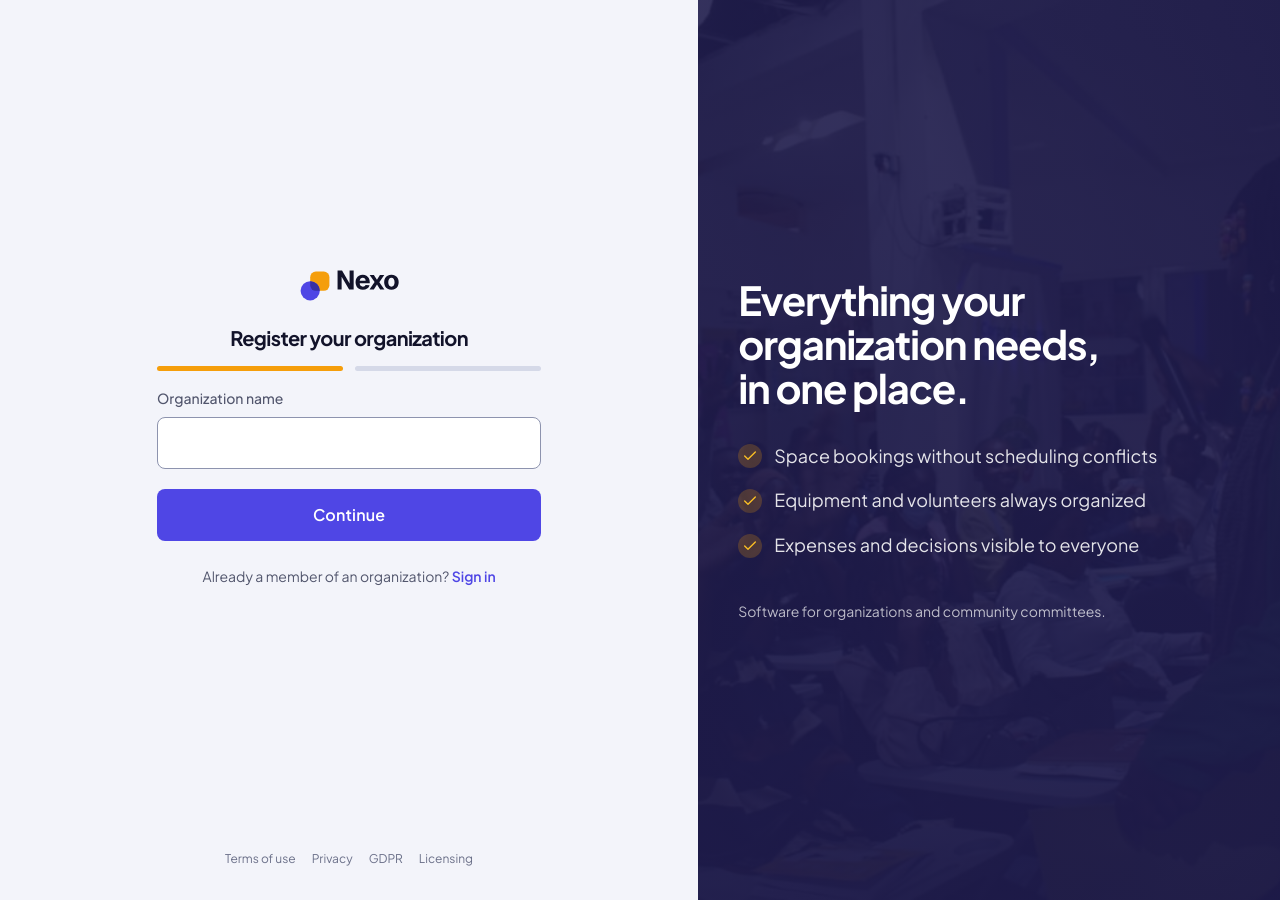
RegisterForm › given valid details across both steps, when submitting, then it registers and sends the admin to sign in
Step 1. Type "Associação Horizonte" into the field labelled "Organization name" → (349, 443), box x1=157 y1=417 x2=541 y2=469
Step 2. Click the button "Continue" → (349, 515), box x1=157 y1=489 x2=541 y2=540
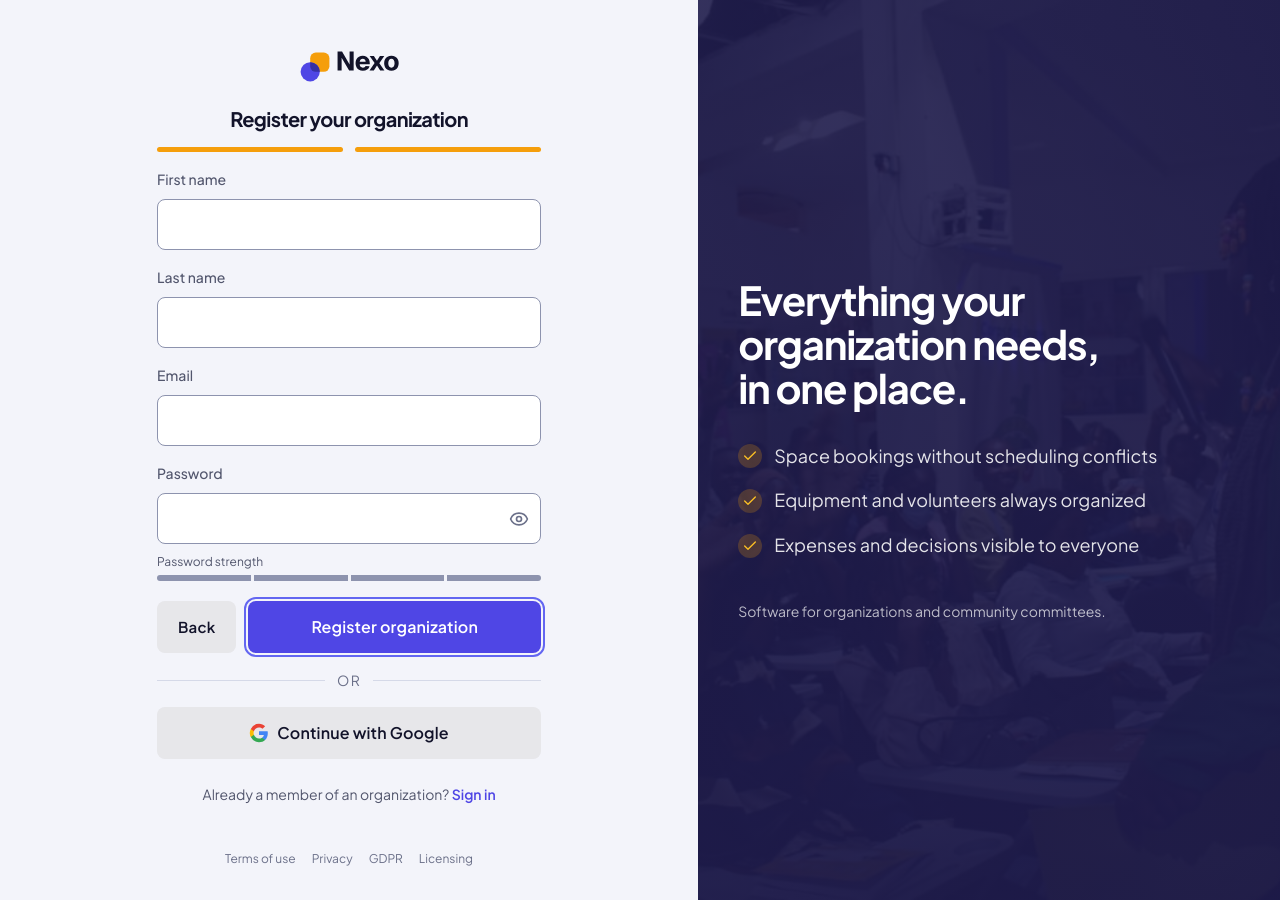
Step 3. Type "Ana" into the field labelled "First name" → (349, 225), box x1=157 y1=199 x2=541 y2=250
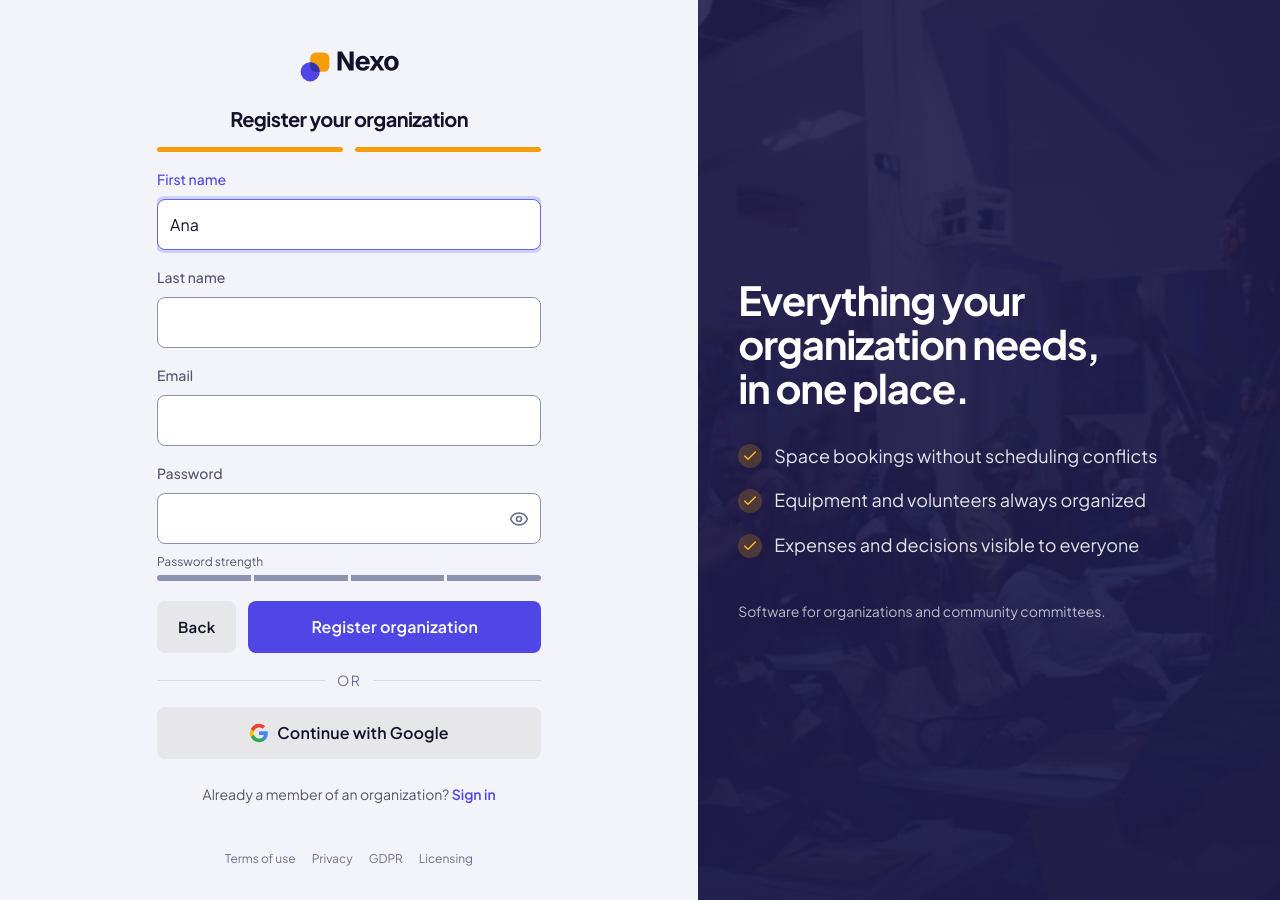
Step 4. Type "Admin" into the field labelled "Last name" → (349, 322), box x1=157 y1=297 x2=541 y2=348
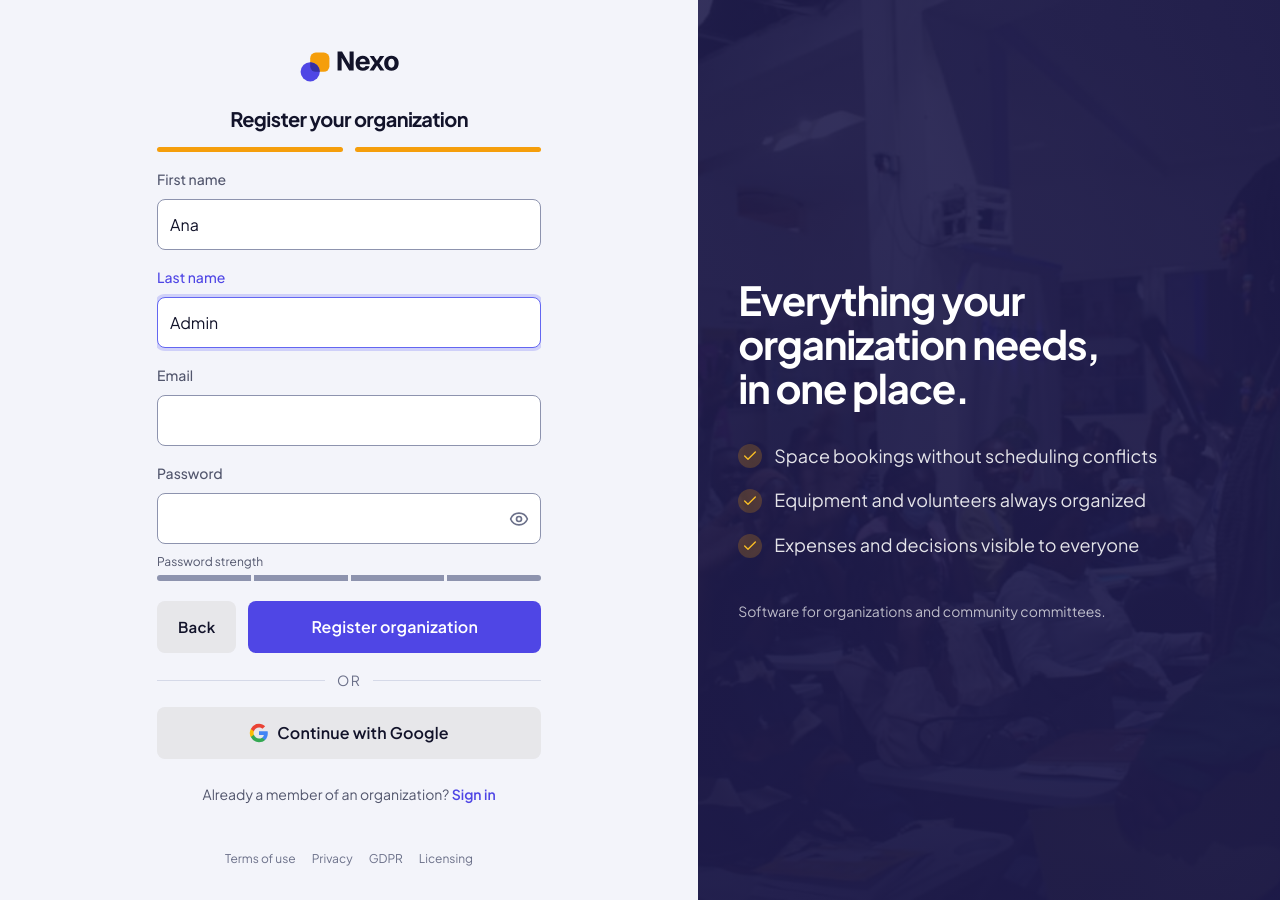
Step 5. Type "ana@example.com" into the field labelled "Email" → (349, 420), box x1=157 y1=395 x2=541 y2=446
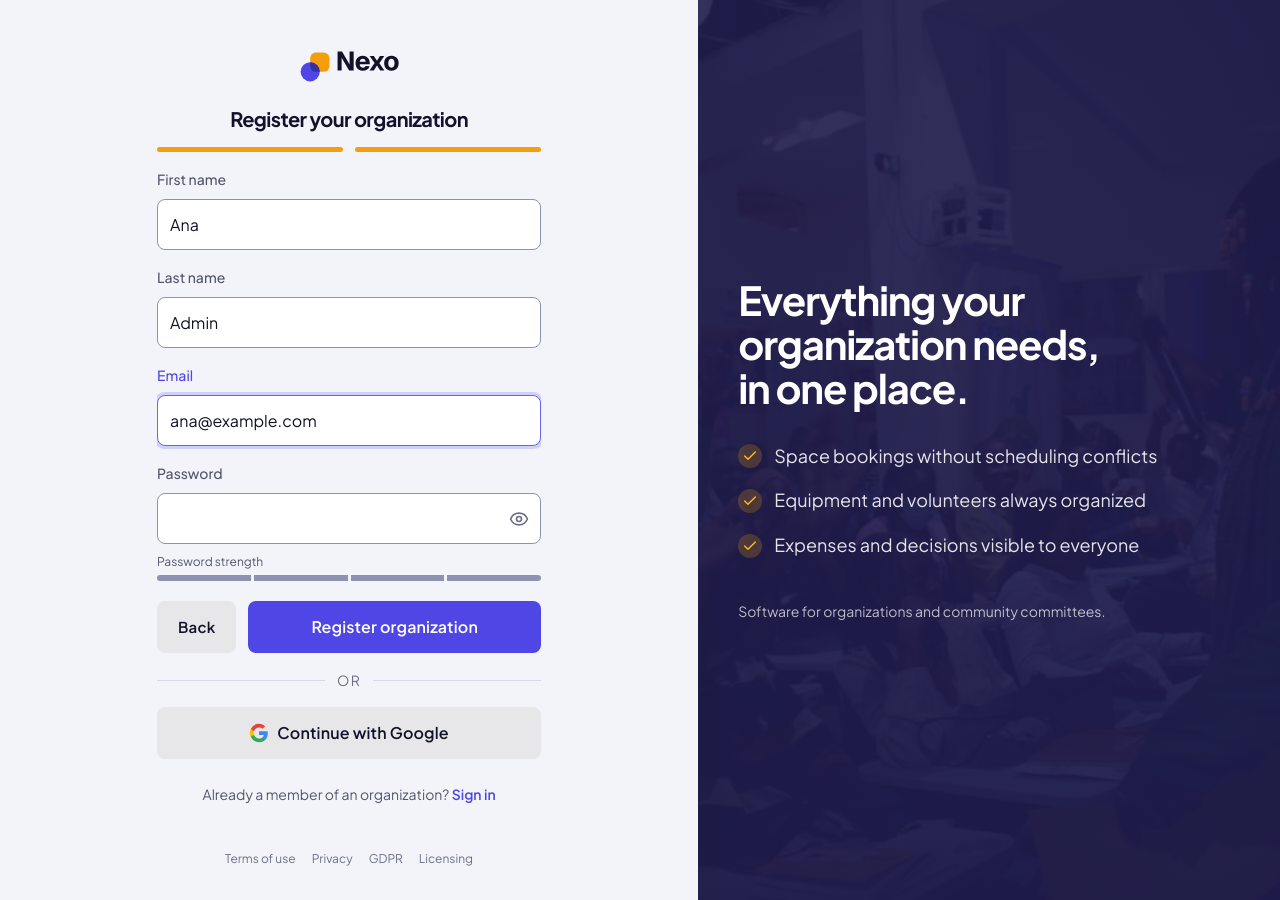
Step 6. Type "Secret-123" into the password field labelled "Password" → (349, 518), box x1=157 y1=493 x2=541 y2=544
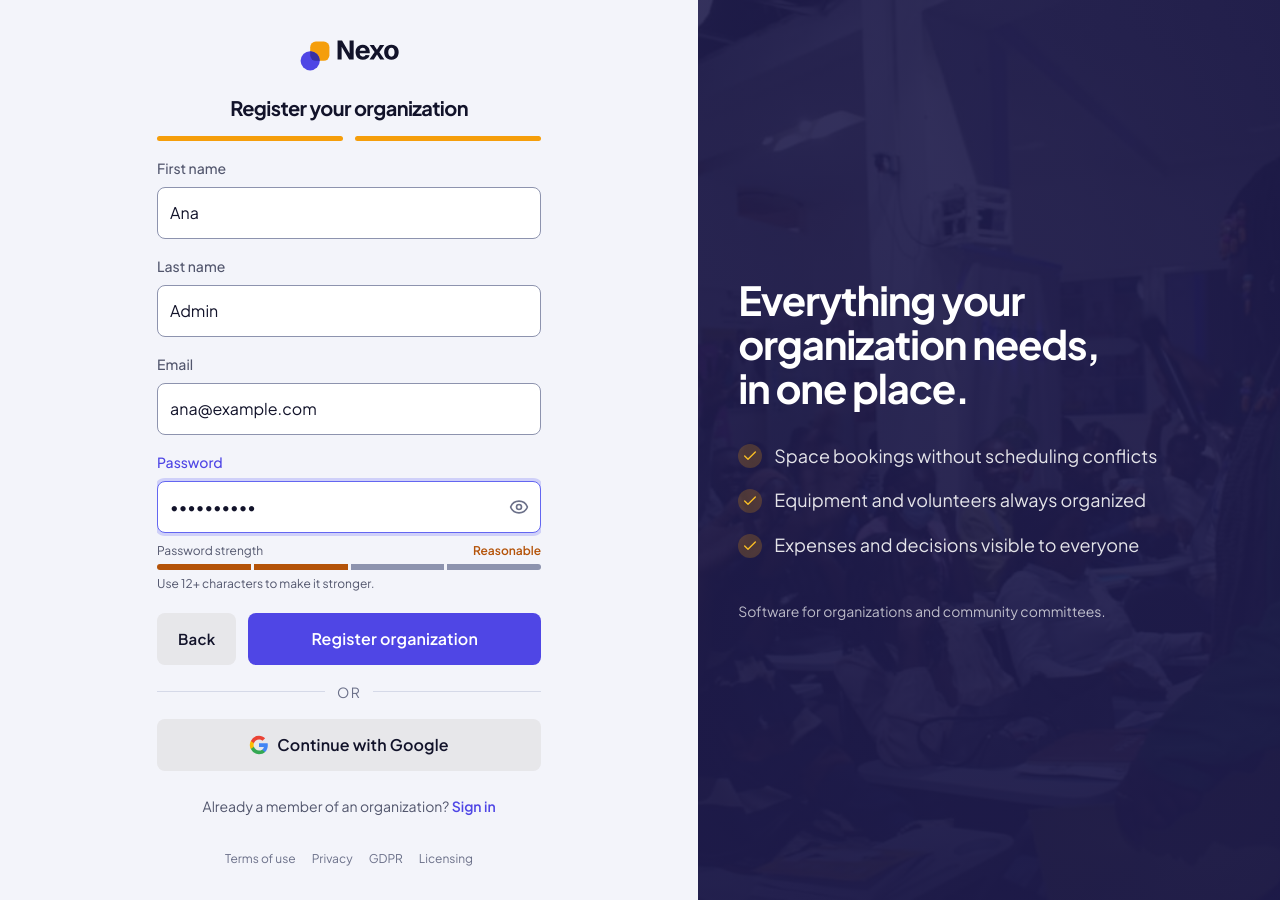
Step 7. Click the button "Register organization" → (395, 639), box x1=248 y1=613 x2=541 y2=665
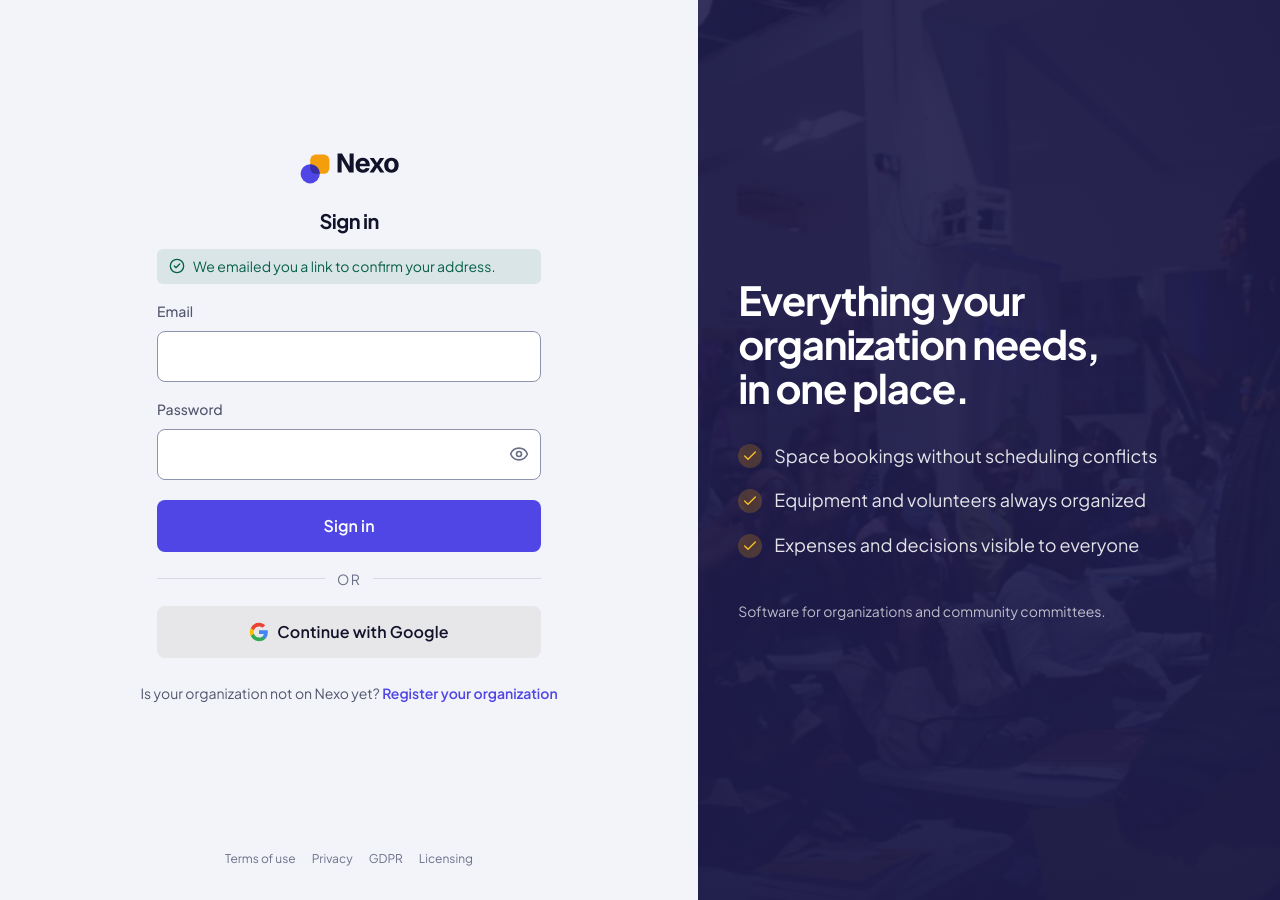
expect the message reads "We emailed you a link to confirm your address.": met, box x1=193 y1=257 x2=495 y2=275
